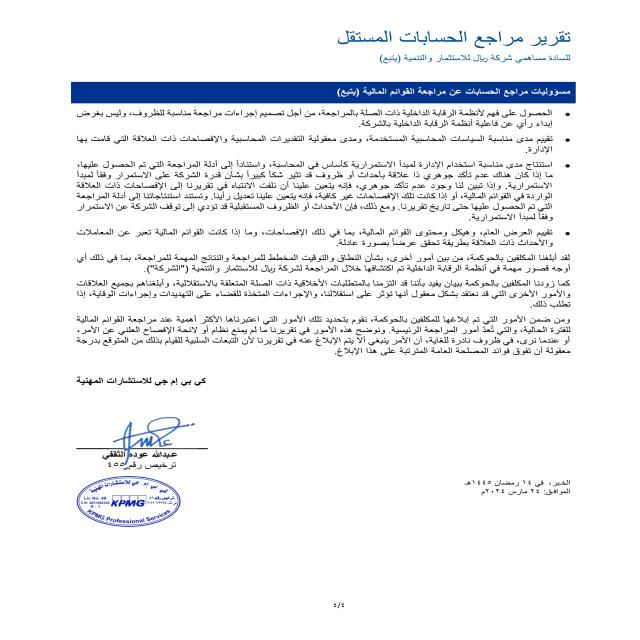auditor_report: (329, 28, 591, 56)
